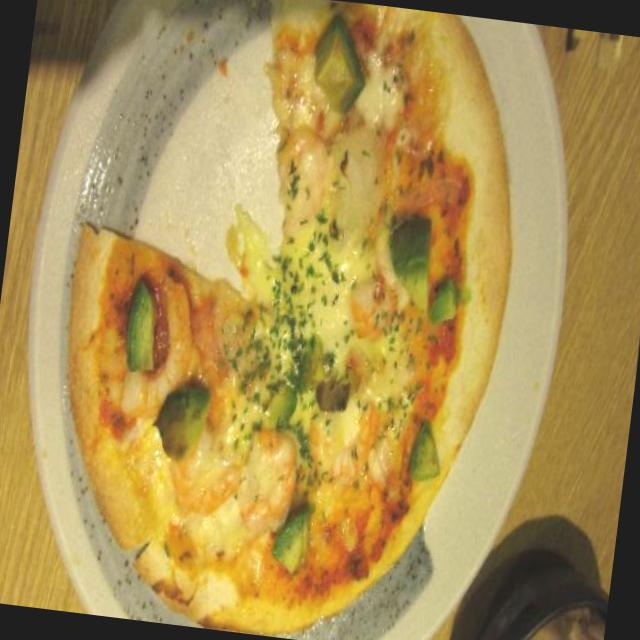Pizza: (21, 0, 552, 640)
